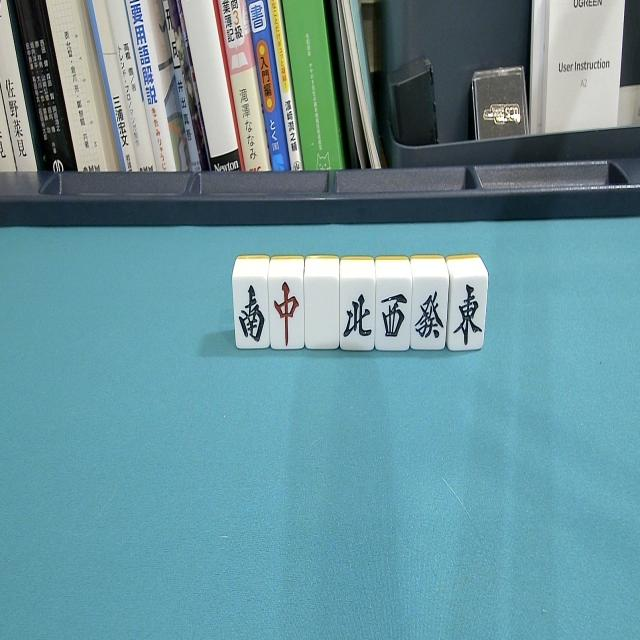chun: (265, 253, 309, 361)
haku: (300, 252, 344, 362)
hatsu: (407, 252, 452, 362)
nan: (230, 254, 272, 362)
pe-: (336, 252, 378, 362)
sya-: (370, 254, 414, 364)
ton: (442, 252, 490, 362)
